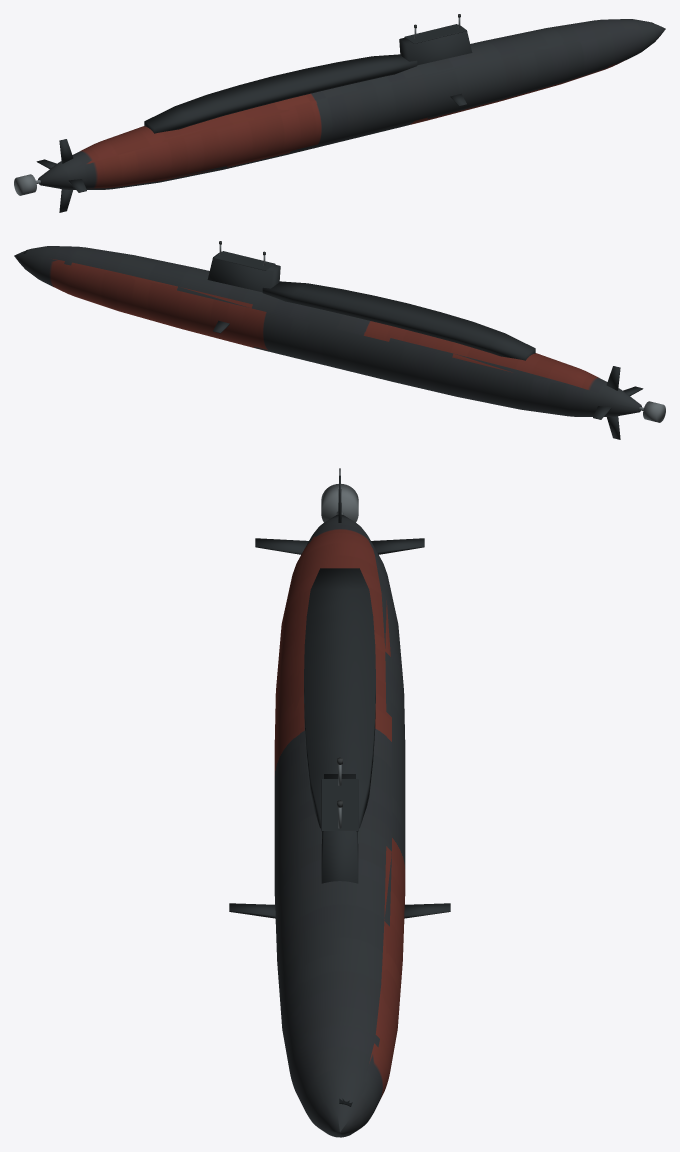
The model's file is FR_SSBN_LeTriomphant_LOD2.fbx.
3 renders of one model, top to bottom at view 1: azimuth 30°, elevation 25°; view 2: azimuth 150°, elevation 25°; view 3: azimuth 270°, elevation 25°, orthographic. The views are drawn at different scales.
Visible parts, largest first — view 1: FR_SSBN_LeTriomphant_LOD2; view 2: FR_SSBN_LeTriomphant_LOD2; view 3: FR_SSBN_LeTriomphant_LOD2.
Part boxes in pixels (bbox=[...]): FR_SSBN_LeTriomphant_LOD2: bbox=[14, 14, 665, 212]; FR_SSBN_LeTriomphant_LOD2: bbox=[14, 241, 665, 439]; FR_SSBN_LeTriomphant_LOD2: bbox=[229, 468, 450, 1137].
Bounding box in the file's own units: 143 × 21.11 × 21.2.
6 materials, 1 textured.
